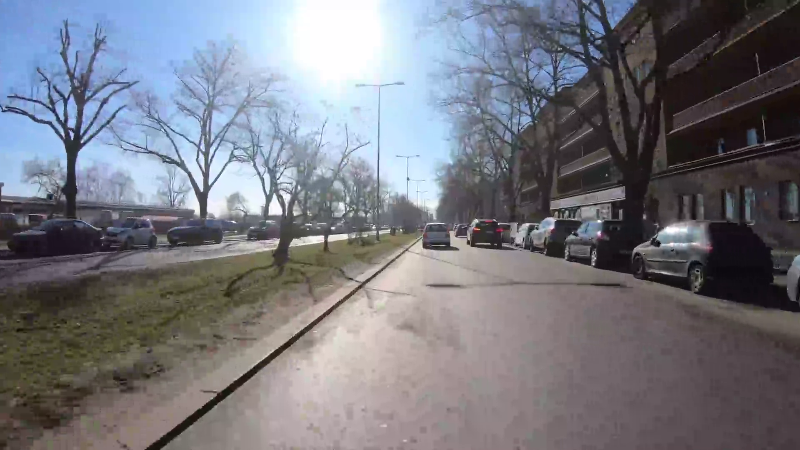Plate: (618, 246, 634, 254)
